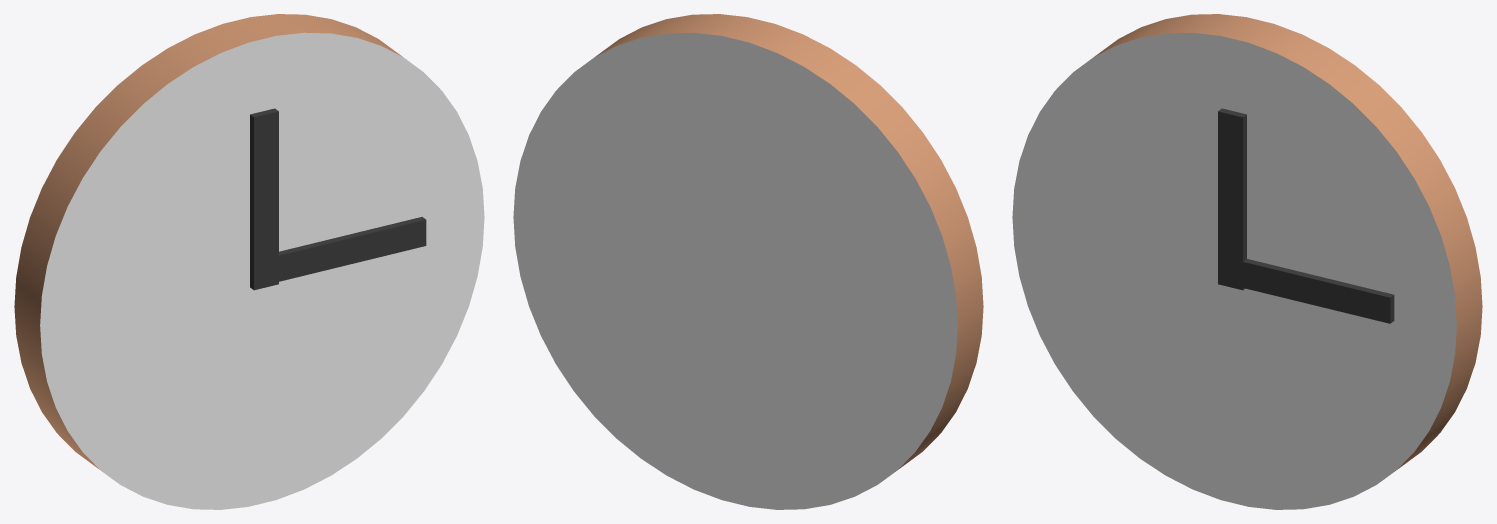
File: wall_clock.obj
3 renders of one model, left to right at view 1: azimuth 30°, elevation 25°; view 2: azimuth 150°, elevation 25°; view 3: azimuth 330°, elevation 25°, orthographic.
Parts seen in each view (by area): view 1: pCube2; view 2: pCube2; view 3: pCube2.
Part boxes in pixels (x1,y1,x2,y2): pCube2: (14,14,484,509); pCube2: (513,14,983,509); pCube2: (1012,14,1482,509).
Size of the model in its own units: 0.8 by 0.7984 by 0.0932.
Materials: 3 (3 with a texture image).
